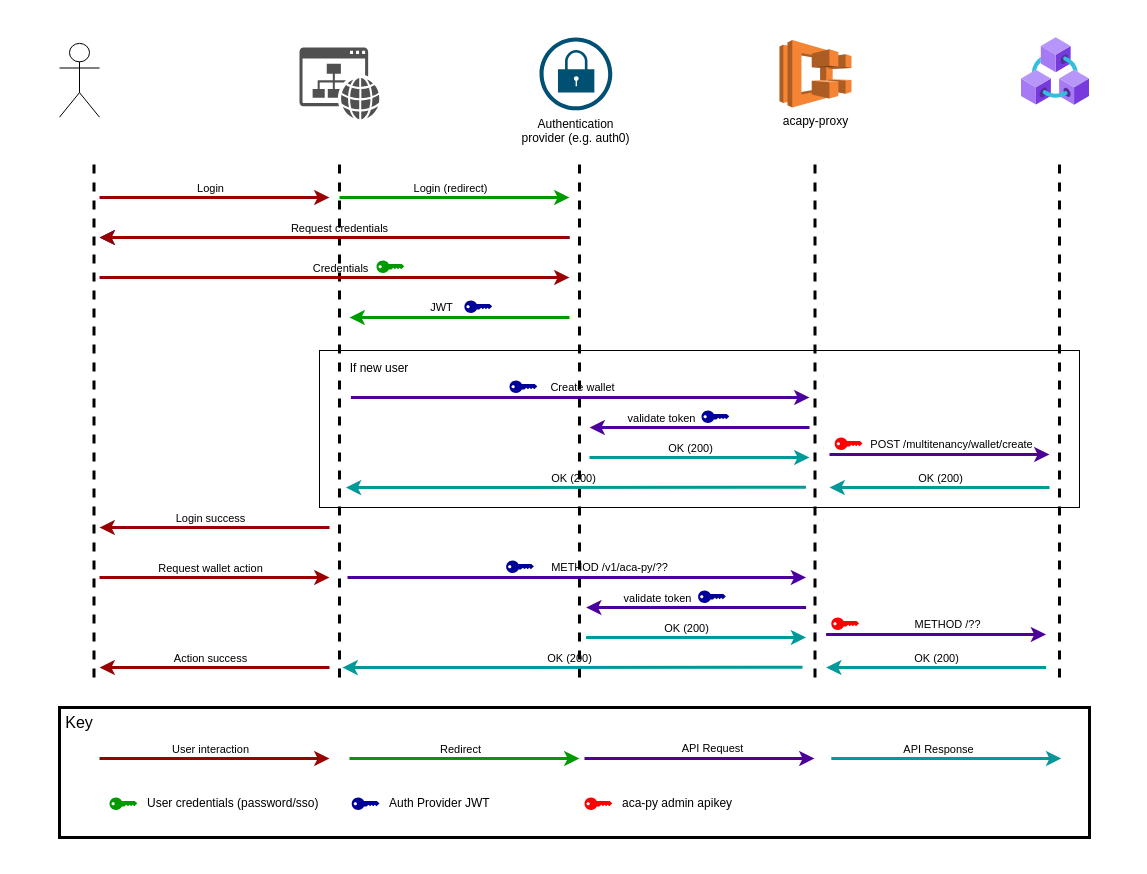
Some shapes in this 1147 by 874 pixel diagram are drawn without their labels. Here are the shapes that lost their labels. From the top down, the centre of each, then its label:
At point 79,79: "Alice".
At point 339,83: "frontend".
At point 1055,71: "aries-cloudagent".
